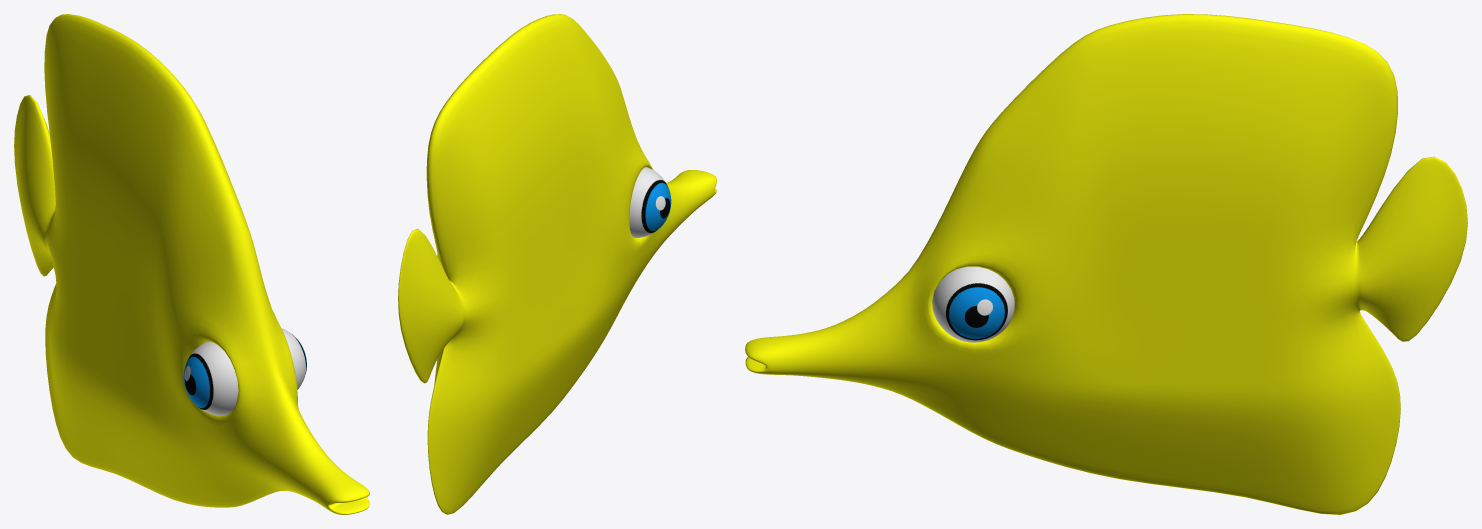
Rendered from butterfly-fish.glb.
3 views of the same model, side by side, from view 1: azimuth 30°, elevation 25°; view 2: azimuth 150°, elevation 25°; view 3: azimuth 270°, elevation 25° (orthographic). The views are drawn at different scales.
Parts seen in each view (by area): view 1: Fish__Copy_; view 2: Fish__Copy_; view 3: Fish__Copy_.
Boxes of the visible parts, bbox=[...] form: Fish__Copy_: bbox=[14, 14, 369, 514]; Fish__Copy_: bbox=[398, 14, 716, 514]; Fish__Copy_: bbox=[745, 14, 1467, 514].
Bounding box in the file's own units: 0.2943 × 1.14 × 1.49.
Materials: 2 (2 with a texture image).
